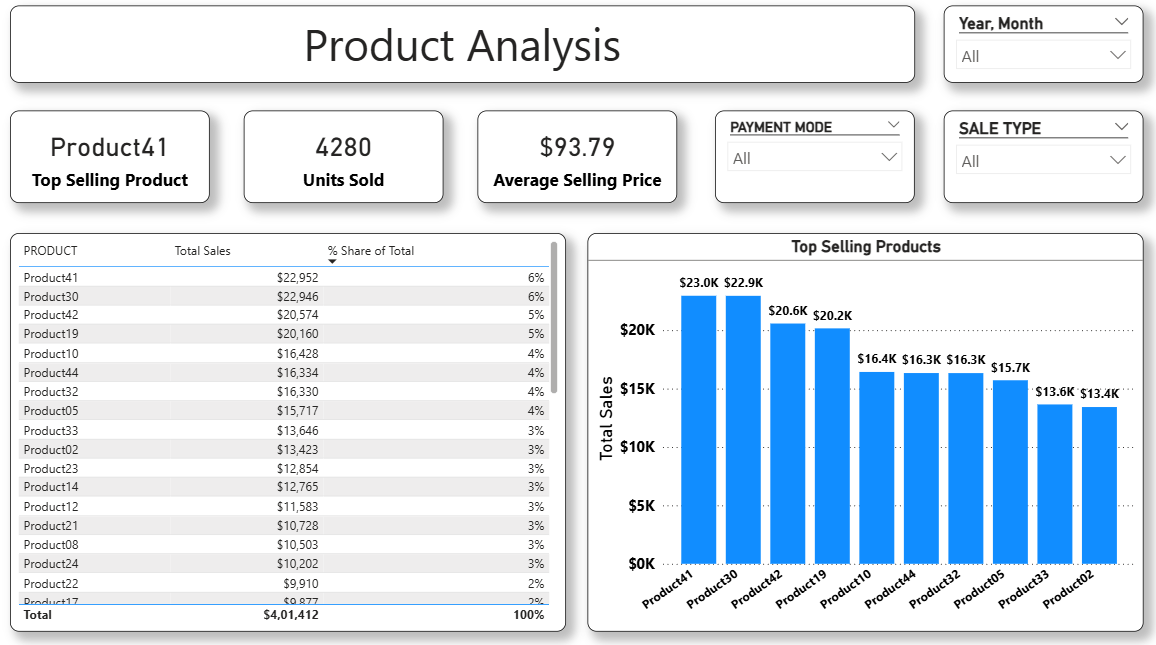

What the dashboard file says about the page in this screenshot:
{"tool":"powerbi","page":{"name":"Product Analysis","canvas":[1280,720],"ordinal":2},"visuals":[{"type":"textbox","box":[16.5,13.7,993.5,85.1],"z":0},{"type":"slicer","fields":{"Values":["DateTable.Year","DateTable.Month"]},"box":[1041.5,13.7,219.6,85.1],"z":1000},{"type":"slicer","fields":{"Values":["InputData.PAYMENT MODE"]},"box":[790.4,129,219.6,101.5],"z":2000},{"type":"slicer","fields":{"Values":["InputData.SALE TYPE"]},"box":[1041.5,129,219.6,101.5],"z":3000},{"type":"clusteredColumnChart","title":"Top Selling Products","fields":{"Category":["MasterData.PRODUCT"],"Y":["KPI Measures.Total Sales"]},"box":[650.4,263.5,610.6,437.7],"z":4000},{"type":"tableEx","fields":{"Values":["MasterData.PRODUCT","KPI Measures.Total Sales","KPI Measures.% Share of Total"]},"box":[16.5,263.5,610.6,437.7],"z":5000},{"type":"card","fields":{"Values":["Max(MasterData.PRODUCT)"]},"box":[16.5,129,219.6,101.5],"z":6000},{"type":"card","fields":{"Values":["KPI Measures.Units Sold"]},"box":[273.1,129,219.6,101.5],"z":7000},{"type":"card","fields":{"Values":["KPI Measures.Average Selling Price"]},"box":[529.7,129,219.6,101.5],"z":8000}]}

Visuals, with their boxes in screenshot pixels (x1, y1, x2, y2), scaled from the page's 1280x720 canvas onto the 1156x645 screenshot:
textbox: x1=15 y1=12 x2=912 y2=89
slicer - DateTable.Year x DateTable.Month: x1=941 y1=12 x2=1139 y2=89
slicer - InputData.PAYMENT MODE: x1=714 y1=116 x2=912 y2=206
slicer - InputData.SALE TYPE: x1=941 y1=116 x2=1139 y2=206
"Top Selling Products" clusteredColumnChart: x1=587 y1=236 x2=1139 y2=628
tableEx - MasterData.PRODUCT x KPI Measures.Total Sales: x1=15 y1=236 x2=566 y2=628
card - Max(MasterData.PRODUCT): x1=15 y1=116 x2=213 y2=206
card - KPI Measures.Units Sold: x1=247 y1=116 x2=445 y2=206
card - KPI Measures.Average Selling Price: x1=478 y1=116 x2=677 y2=206
